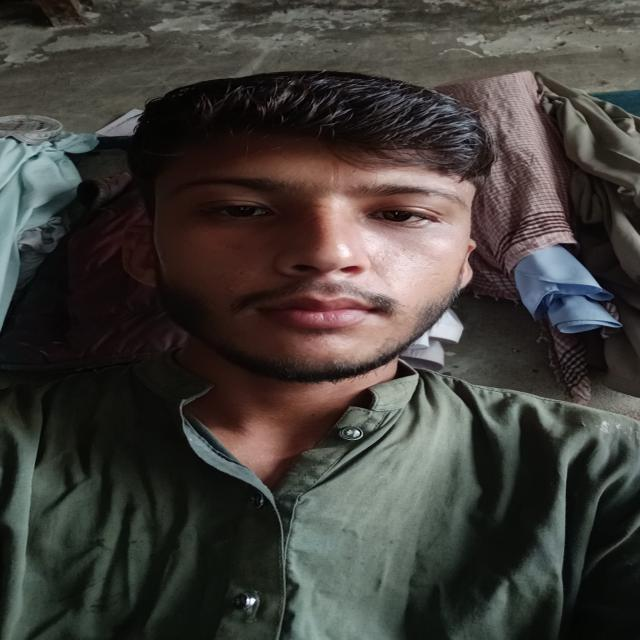dark circle: (362, 222, 454, 242), (190, 220, 287, 236)
pores: (372, 244, 440, 284)
